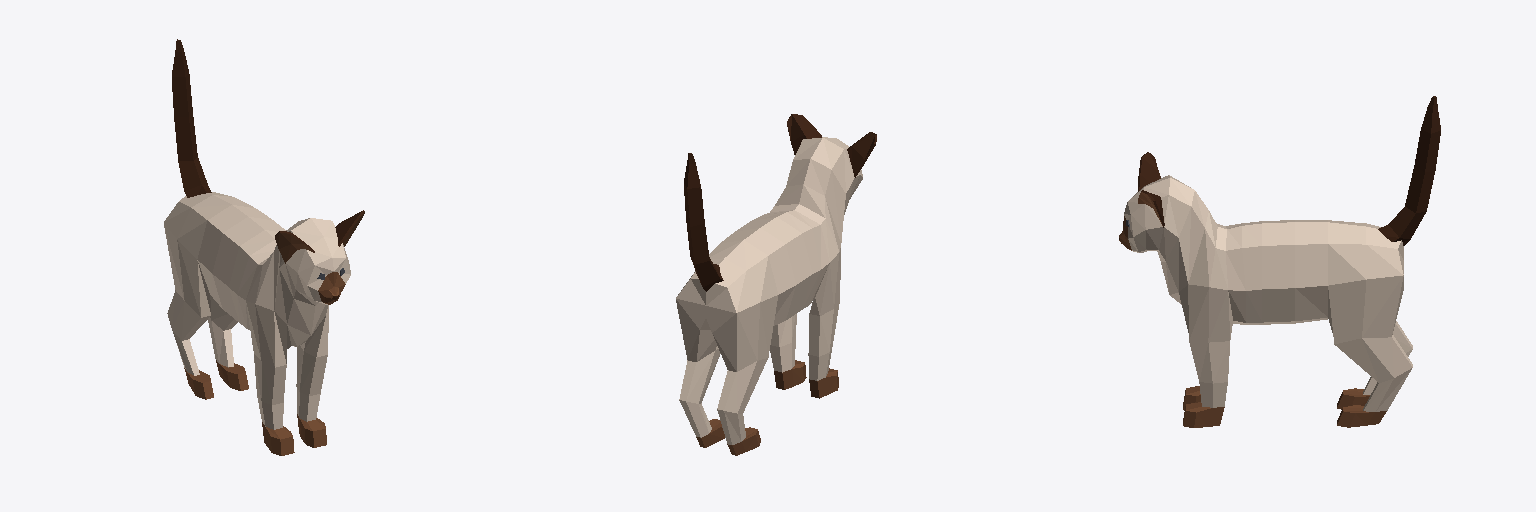
3 renders of one model, left to right at view 1: azimuth 30°, elevation 25°; view 2: azimuth 150°, elevation 25°; view 3: azimuth 270°, elevation 25°, orthographic.
Parts seen in each view (by area): view 1: Geo_Kitten; view 2: Geo_Kitten; view 3: Geo_Kitten.
Part boxes in pixels (left/top/right/bottom): Geo_Kitten: left=164, top=39, right=364, bottom=455; Geo_Kitten: left=676, top=114, right=876, bottom=455; Geo_Kitten: left=1119, top=96, right=1440, bottom=427.
Size of the model in its own units: 12.13 by 41.15 by 37.79.
1 materials, 1 textured.